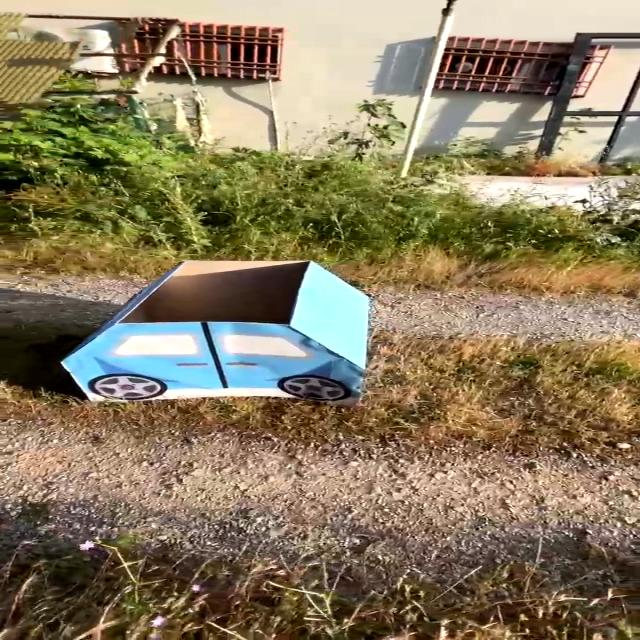blue_car: (27, 218, 436, 438)
